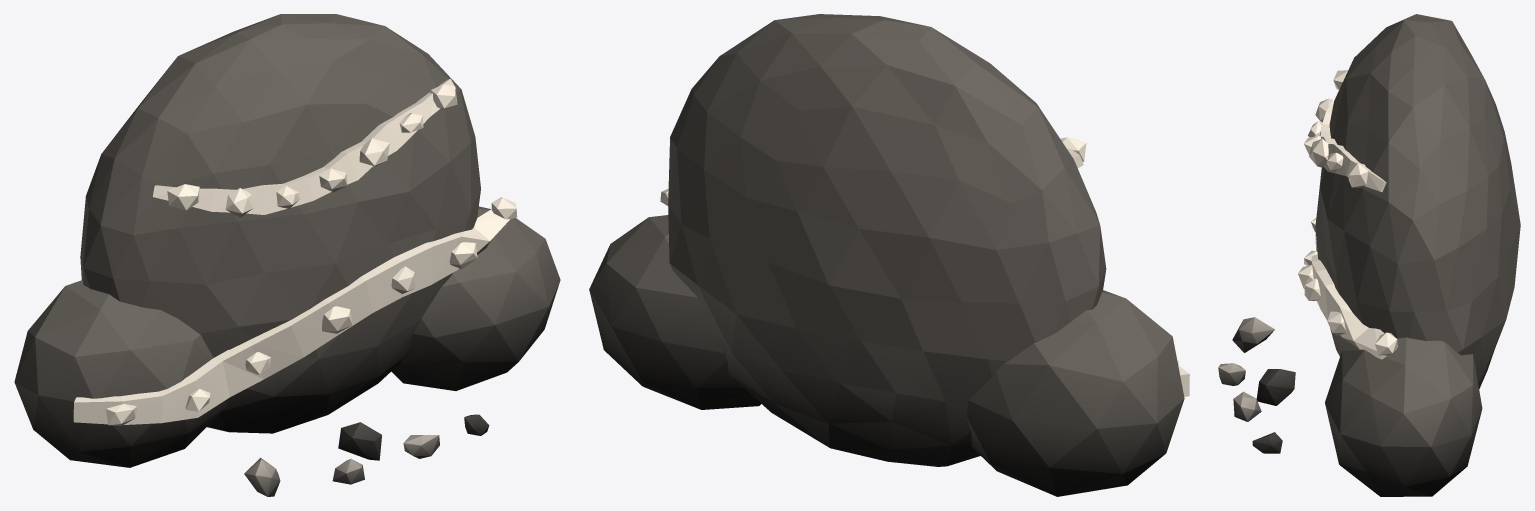
Rendered from SM_VKI_Prop_Vein_Iron.fbx.
3 renders of one model, left to right at view 1: azimuth 30°, elevation 25°; view 2: azimuth 150°, elevation 25°; view 3: azimuth 270°, elevation 25°, orthographic. The views are drawn at different scales.
Parts seen in each view (by area): view 1: SM_VKI_Prop_Vein_Iron.001; view 2: SM_VKI_Prop_Vein_Iron.001; view 3: SM_VKI_Prop_Vein_Iron.001.
Boxes of the visible parts, bbox=[...] form: SM_VKI_Prop_Vein_Iron.001: bbox=[14, 14, 560, 496]; SM_VKI_Prop_Vein_Iron.001: bbox=[589, 14, 1189, 496]; SM_VKI_Prop_Vein_Iron.001: bbox=[1218, 14, 1520, 496].
Size of the model in its own units: 2.29 by 1.68 by 1.21.
